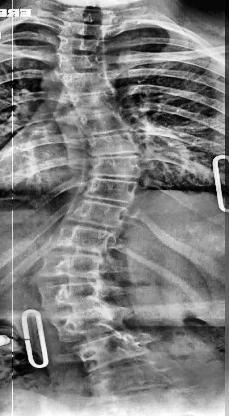Vertebrae: (67, 335, 170, 367), (48, 312, 136, 342), (33, 279, 109, 311), (75, 175, 151, 205), (60, 200, 146, 226), (84, 153, 154, 183), (71, 113, 141, 142), (40, 226, 120, 251), (56, 90, 140, 112), (44, 54, 121, 78), (46, 20, 123, 44), (84, 132, 154, 158), (53, 70, 121, 96), (37, 254, 110, 278), (50, 36, 112, 62)
